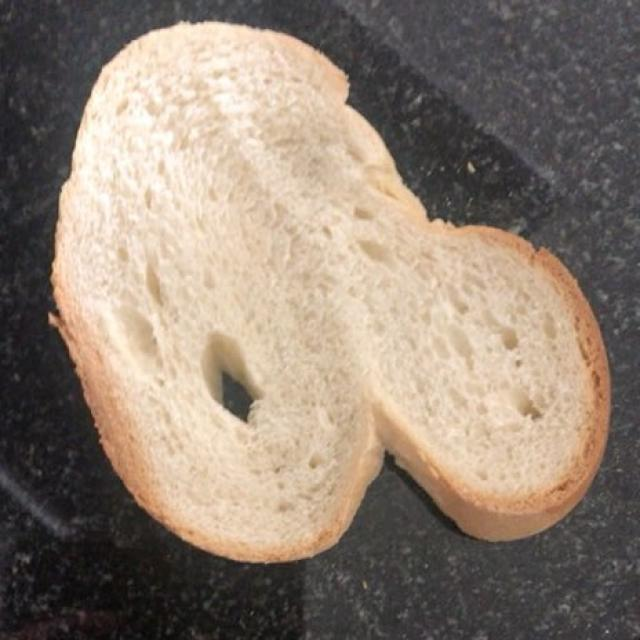bread: (72, 27, 602, 555)
